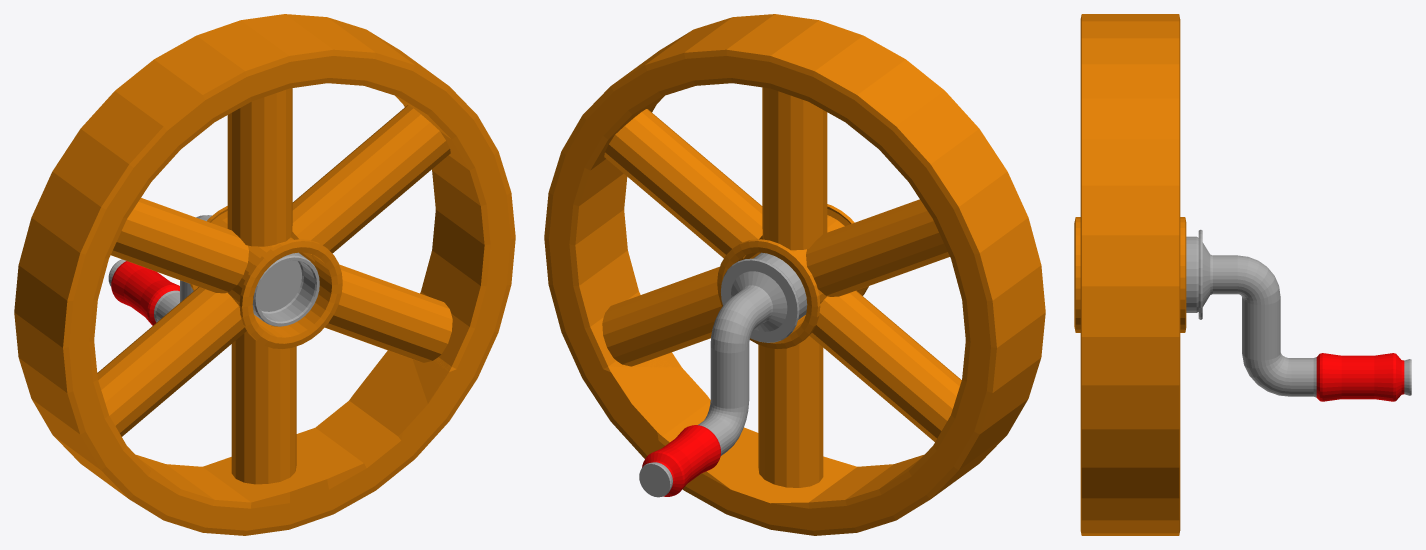
The model's file is crank_001.fbx.
3 renders of one model, left to right at view 1: azimuth 30°, elevation 25°; view 2: azimuth 150°, elevation 25°; view 3: azimuth 270°, elevation 25°, orthographic.
Visible parts, largest first — view 1: crankshorlder, cranks; view 2: crankshorlder, cranks; view 3: crankshorlder, cranks.
Boxes of the visible parts, x1,y1,x2,y2 form: crankshorlder: [14, 14, 515, 535]; cranks: [108, 215, 319, 326]; crankshorlder: [544, 14, 1045, 535]; cranks: [639, 252, 807, 497]; crankshorlder: [1074, 14, 1186, 535]; cranks: [1186, 229, 1411, 401].
Size of the model in its own units: 35.87 by 35.87 by 23.14.
